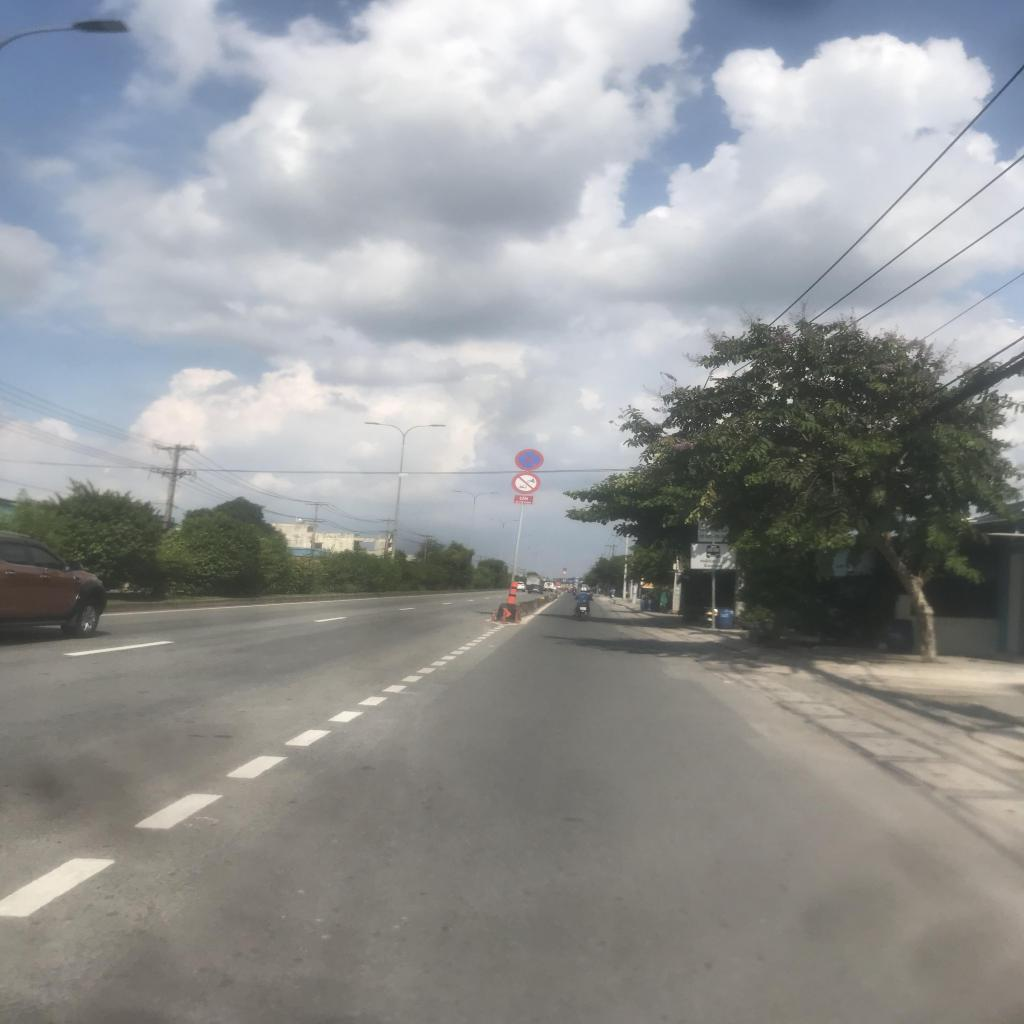cam_dung_xe_va_do_xe: (516, 448, 544, 470), (562, 567, 567, 571)
cam_xe_2_banh_va_xe_3_banh_co_dong_co: (511, 472, 540, 493), (562, 571, 567, 574)
khac: (690, 544, 736, 568), (698, 522, 728, 542)
